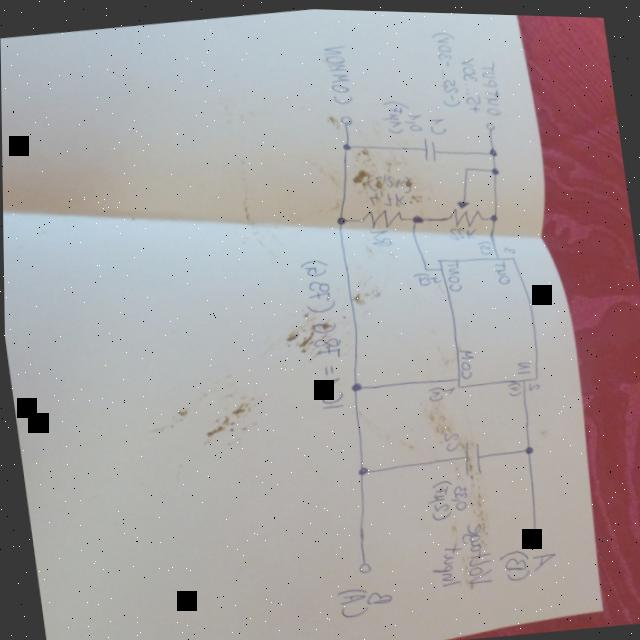capacitor: (457, 434, 484, 475), (421, 134, 439, 160)
junction: (409, 209, 425, 223), (333, 212, 349, 224), (349, 378, 364, 390), (356, 462, 370, 474), (522, 441, 536, 452), (340, 138, 353, 149), (488, 143, 499, 155), (490, 162, 501, 172), (489, 209, 499, 219), (463, 162, 471, 169), (421, 263, 430, 269)
resistor: (442, 193, 485, 227), (361, 202, 405, 228)
terminal: (523, 523, 544, 541), (335, 109, 355, 126), (355, 557, 373, 573), (483, 114, 499, 131)
text: (296, 253, 349, 409), (431, 23, 465, 108), (455, 515, 496, 583), (320, 38, 356, 105), (427, 536, 468, 586), (360, 163, 414, 196), (477, 57, 505, 114), (423, 475, 457, 519), (459, 53, 484, 110), (495, 543, 532, 580), (333, 583, 369, 618), (367, 183, 414, 208), (381, 95, 411, 133), (442, 256, 465, 289), (437, 422, 463, 450), (363, 584, 395, 606), (529, 546, 558, 570), (445, 219, 479, 239), (448, 480, 470, 509), (457, 345, 476, 376), (367, 224, 393, 246), (493, 258, 512, 282), (428, 112, 449, 133), (404, 107, 424, 129), (425, 382, 445, 399), (411, 268, 432, 284), (515, 356, 533, 373), (477, 236, 493, 252), (507, 377, 522, 393), (442, 381, 457, 394), (525, 378, 542, 389), (428, 270, 443, 282), (504, 242, 517, 251)
